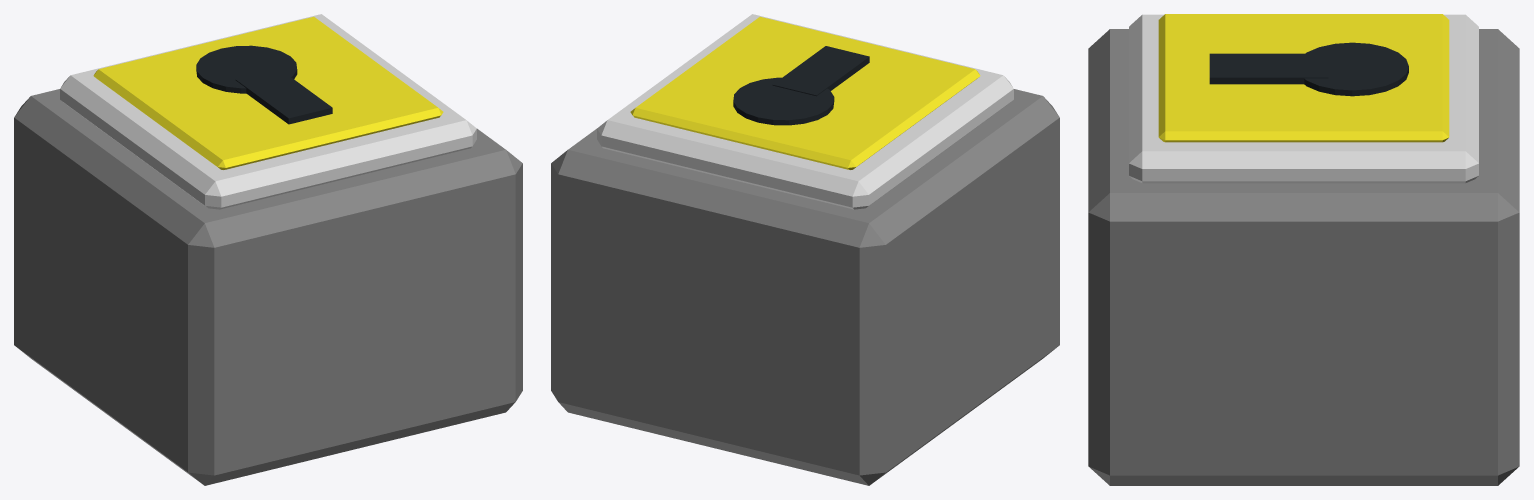
Rendered from door-yellow.glb.
3 views of the same model, side by side, from view 1: azimuth 30°, elevation 25°; view 2: azimuth 150°, elevation 25°; view 3: azimuth 270°, elevation 25° (orthographic). The views are drawn at different scales.
Parts seen in each view (by area): view 1: door-yellow; view 2: door-yellow; view 3: door-yellow.
Part boxes in pixels (x1,y1,x2,y2): door-yellow: [14, 14, 522, 485]; door-yellow: [551, 14, 1059, 485]; door-yellow: [1088, 14, 1519, 485].
Bounding box in the file's own units: 0.8 × 0.693 × 0.8.
